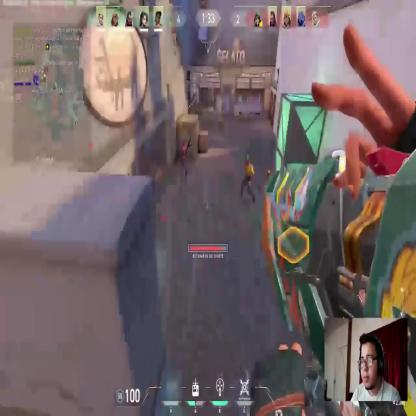enemy: (240, 153, 255, 204), (180, 139, 192, 177)
enemy_head: (245, 155, 250, 164), (182, 140, 186, 147)
